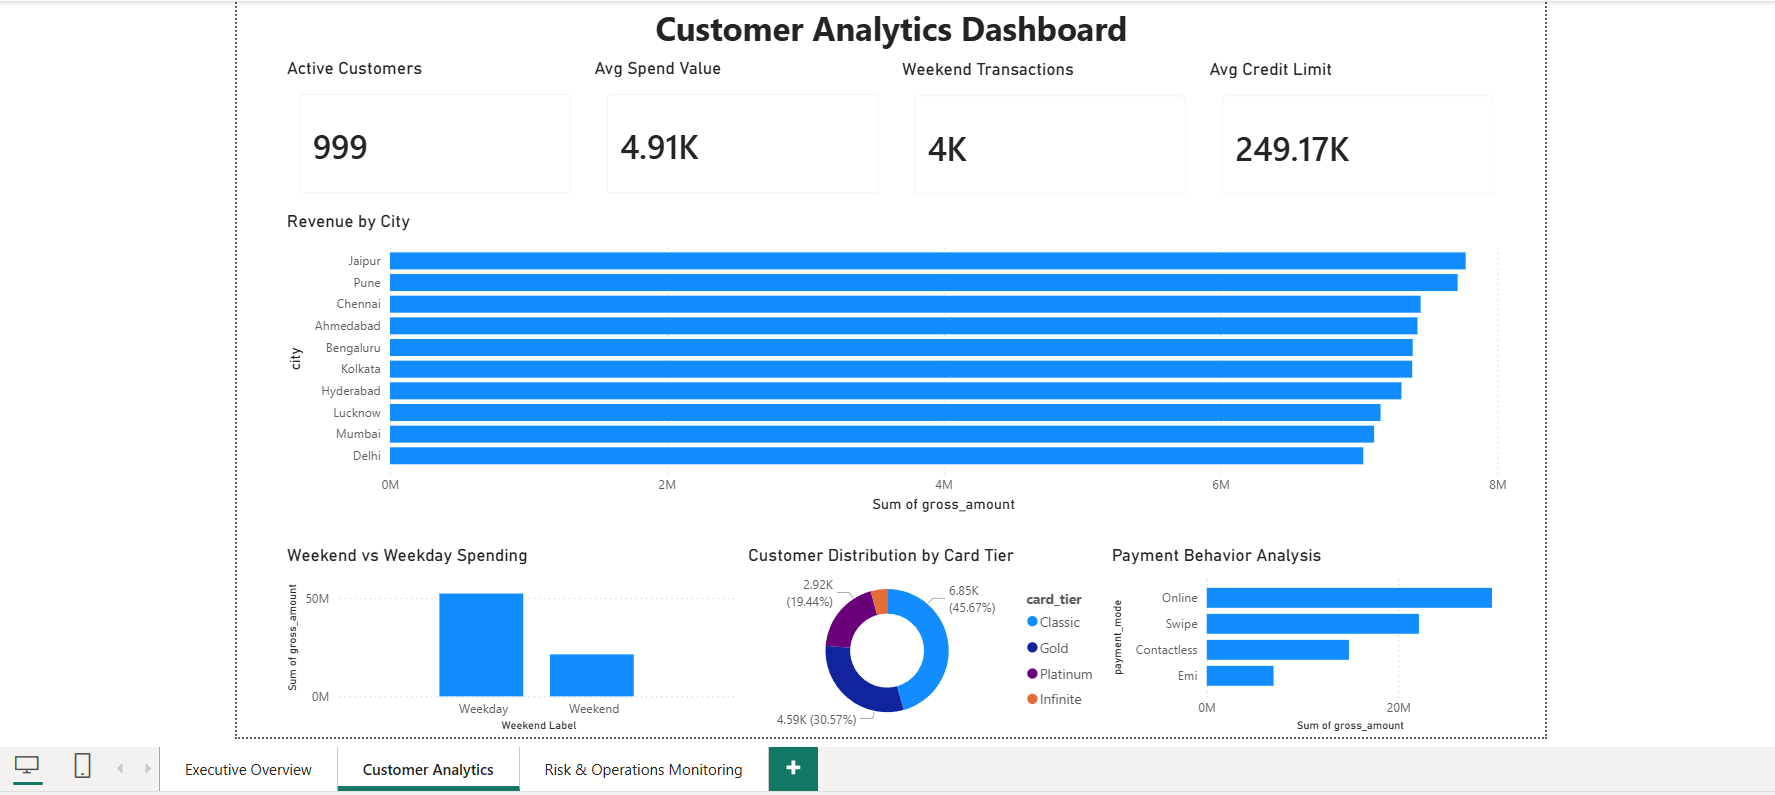

This screenshot's page, from the dashboard's own definition file:
{"tool":"powerbi","page":{"name":"Customer Analytics","canvas":[1280,720],"ordinal":1},"visuals":[{"type":"textbox","box":[0,0,1280.3,55],"z":0},{"type":"cardVisual","title":"Active Customers","fields":{"Data":["Count(transactions_clean.customer_id)"]},"box":[44,55,300.8,150.4],"z":1000},{"type":"cardVisual","title":"Avg Spend Value","fields":{"Data":["Avg(transactions_clean.gross_amount)"]},"box":[344.8,55,300.8,150.4],"z":2000},{"type":"cardVisual","title":"Weekend Transactions","fields":{"Data":["Sum(transactions_clean.is_weekend)"]},"box":[645.7,56.3,300.8,150.4],"z":3000},{"type":"cardVisual","title":"Avg Credit Limit","fields":{"Data":["Avg(transactions_clean.credit_limit)"]},"box":[946.5,56.3,300.8,150.4],"z":4000},{"type":"clusteredBarChart","title":"Revenue by City","fields":{"Category":["transactions_clean.city"],"Y":["Sum(transactions_clean.gross_amount)"]},"box":[44,205.4,1203.3,299.6],"z":4001},{"type":"columnChart","title":"Weekend vs Weekday Spending","fields":{"Y":["Sum(transactions_clean.gross_amount)"],"Category":["transactions_clean.Weekend Label"]},"box":[44,531.9,451.2,188.3],"z":4002},{"type":"donutChart","title":"Customer Distribution by Card Tier","fields":{"Category":["transactions_clean.card_tier"],"Y":["CountNonNull(transactions_clean.customer_id)"]},"box":[495.2,531.9,355.8,188.3],"z":4003},{"type":"clusteredBarChart","title":"Payment Behavior Analysis","fields":{"Category":["transactions_clean.payment_mode"],"Y":["Sum(transactions_clean.gross_amount)"]},"box":[851,532,396,188],"z":4004}]}

Visuals, with their boxes on the page's 1280x720 design canvas (x1, y1, x2, y2). These are canvas units, not pixel positions in the 1775x795 screenshot, which may show the page scaled, cropped or inside an application window:
textbox: bbox(0, 0, 1280, 55)
"Active Customers" cardVisual: bbox(44, 55, 345, 205)
"Avg Spend Value" cardVisual: bbox(345, 55, 646, 205)
"Weekend Transactions" cardVisual: bbox(646, 56, 946, 207)
"Avg Credit Limit" cardVisual: bbox(946, 56, 1247, 207)
"Revenue by City" clusteredBarChart: bbox(44, 205, 1247, 505)
"Weekend vs Weekday Spending" columnChart: bbox(44, 532, 495, 720)
"Customer Distribution by Card Tier" donutChart: bbox(495, 532, 851, 720)
"Payment Behavior Analysis" clusteredBarChart: bbox(851, 532, 1247, 720)
